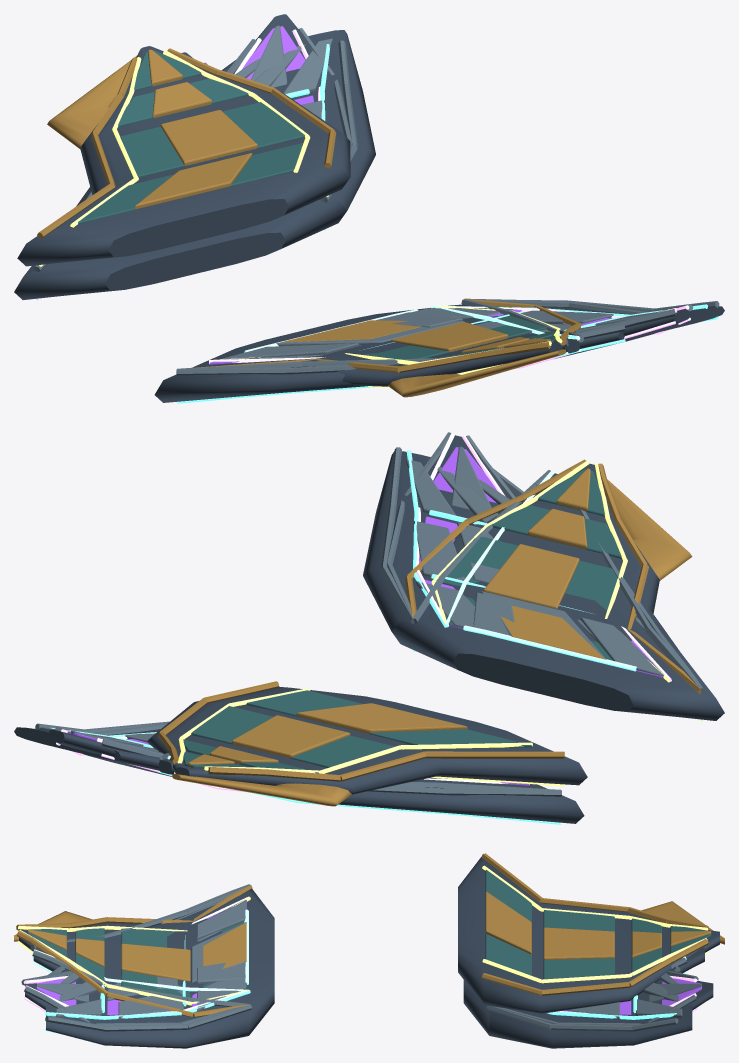
File: wings.glb
3 views of the same model, one above another, from view 1: azimuth 30°, elevation 25°; view 2: azimuth 150°, elevation 25°; view 3: azimuth 270°, elevation 25° (orthographic). The views are drawn at different scales.
Visible parts, largest first — view 1: w_phantom Fitting gunmetal, w_phantom Champagne gold edging, w_razor Fitting gunmetal, w_phantom Phantom blue-black enamel, w_vane Fitting gunmetal, w_vane Brushed fitting edges, w_prism Brushed fitting edges, w_razor Brushed fitting edges, w_phantom w_phantom emitter, w_vane w_vane emitter, w_prism w_prism emitter, w_prism Fitting gunmetal (+2 smaller); view 2: w_phantom Champagne gold edging, w_razor Fitting gunmetal, w_phantom Fitting gunmetal, w_phantom Phantom blue-black enamel, w_vane Fitting gunmetal, w_vane Brushed fitting edges, w_razor Brushed fitting edges, w_prism Brushed fitting edges, w_phantom w_phantom emitter, w_vane w_vane emitter, w_prism Fitting gunmetal, w_prism w_prism emitter (+2 smaller); view 3: w_phantom Champagne gold edging, w_phantom Fitting gunmetal, w_vane Fitting gunmetal, w_phantom Phantom blue-black enamel, w_vane Brushed fitting edges, w_razor Fitting gunmetal, w_prism Brushed fitting edges, w_razor Brushed fitting edges, w_phantom w_phantom emitter, w_vane w_vane emitter, w_prism Violet prismatic glass, w_prism Fitting gunmetal (+2 smaller).
Part boxes in pixels (box(x1,y1,x2,y2)): w_phantom Fitting gunmetal: box(17, 46, 567, 386); w_phantom Champagne gold edging: box(37, 48, 581, 397); w_razor Fitting gunmetal: box(14, 52, 579, 380); w_phantom Phantom blue-black enamel: box(70, 50, 556, 360); w_vane Fitting gunmetal: box(24, 30, 724, 402); w_vane Brushed fitting edges: box(33, 38, 719, 375); w_prism Brushed fitting edges: box(37, 25, 693, 346); w_razor Brushed fitting edges: box(35, 62, 583, 370); w_phantom w_phantom emitter: box(39, 50, 562, 387); w_vane w_vane emitter: box(36, 44, 718, 403); w_prism w_prism emitter: box(37, 29, 690, 368); w_prism Fitting gunmetal: box(236, 14, 689, 358); w_phantom Champagne gold edging: box(157, 459, 701, 806); w_razor Fitting gunmetal: box(159, 473, 724, 800); w_phantom Fitting gunmetal: box(147, 463, 659, 794); w_phantom Phantom blue-black enamel: box(183, 469, 672, 773); w_vane Fitting gunmetal: box(14, 451, 715, 823); w_vane Brushed fitting edges: box(35, 447, 704, 796); w_razor Brushed fitting edges: box(162, 470, 702, 791); w_prism Brushed fitting edges: box(54, 432, 674, 796); w_phantom w_phantom emitter: box(174, 460, 701, 786); w_vane w_vane emitter: box(51, 450, 702, 824); w_prism Fitting gunmetal: box(49, 435, 502, 776); w_prism w_prism emitter: box(56, 433, 671, 792); w_phantom Champagne gold edging: box(14, 853, 724, 1017); w_phantom Fitting gunmetal: box(19, 857, 719, 1013); w_vane Fitting gunmetal: box(46, 970, 692, 1048); w_phantom Phantom blue-black enamel: box(27, 869, 711, 997); w_vane Brushed fitting edges: box(45, 887, 682, 1031); w_razor Fitting gunmetal: box(33, 889, 704, 1035); w_prism Brushed fitting edges: box(21, 900, 701, 1025); w_razor Brushed fitting edges: box(30, 884, 687, 1006); w_phantom w_phantom emitter: box(17, 865, 708, 1005); w_vane w_vane emitter: box(45, 935, 676, 1033); w_prism Violet prismatic glass: box(36, 901, 701, 1014); w_prism Fitting gunmetal: box(25, 981, 713, 1020).
Size of the model in its own units: 36.6 by 7.99 by 58.28.
